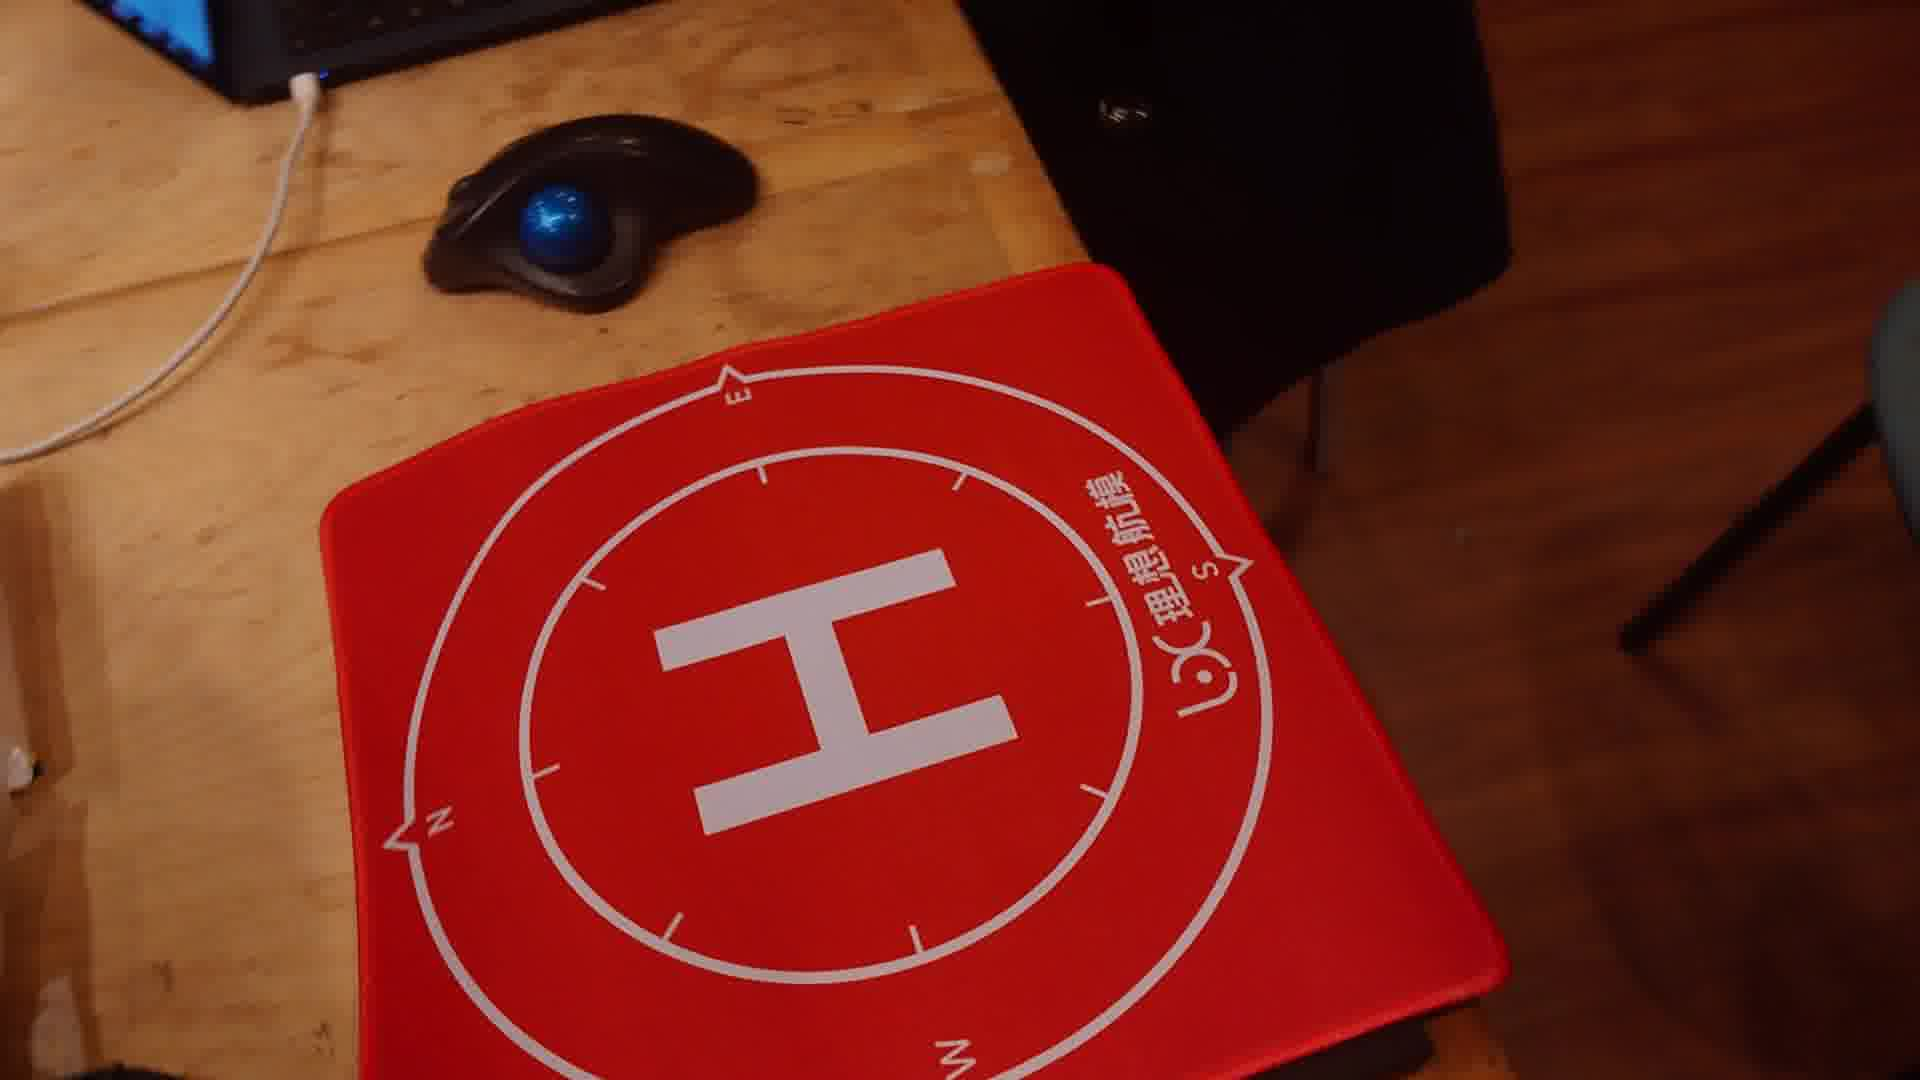H: (651, 549, 1023, 837)
